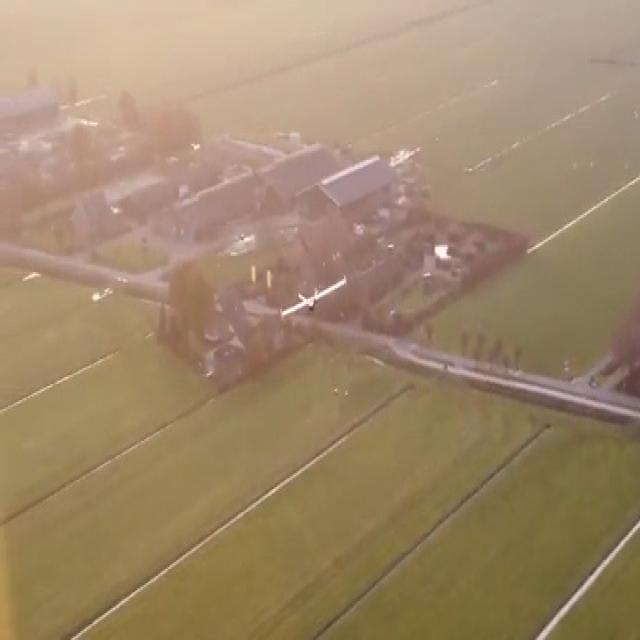drones: (275, 265, 349, 341)
